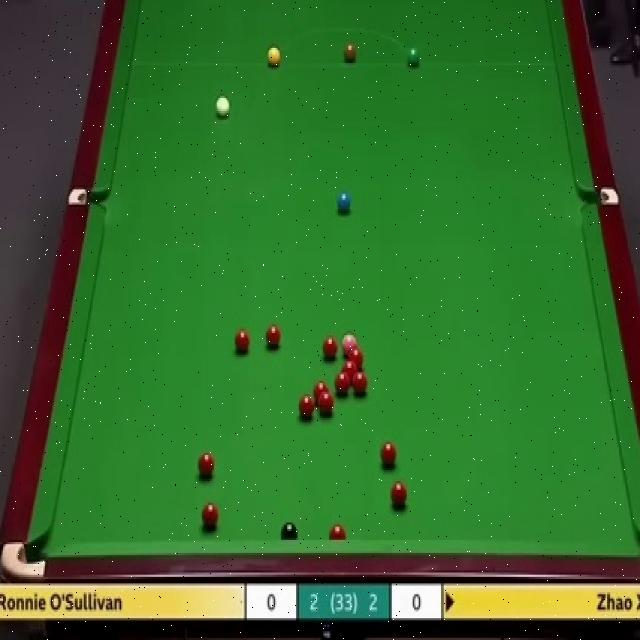black-ball: (280, 520, 298, 542)
blue-ball: (336, 192, 351, 215)
brown-ball: (344, 45, 357, 65)
green-ball: (406, 46, 423, 67)
pink-ball: (340, 330, 358, 350)
red-ball: (201, 501, 220, 531), (390, 479, 408, 507), (297, 392, 315, 420), (198, 451, 215, 478), (381, 442, 397, 470), (233, 328, 250, 354), (318, 391, 335, 416), (265, 324, 282, 348), (334, 372, 350, 396), (322, 335, 338, 358), (328, 521, 346, 541), (353, 373, 368, 394), (347, 348, 364, 366), (312, 381, 330, 396), (343, 360, 358, 374)
white-ball: (215, 94, 230, 120)
yellow-ball: (267, 44, 281, 66)
